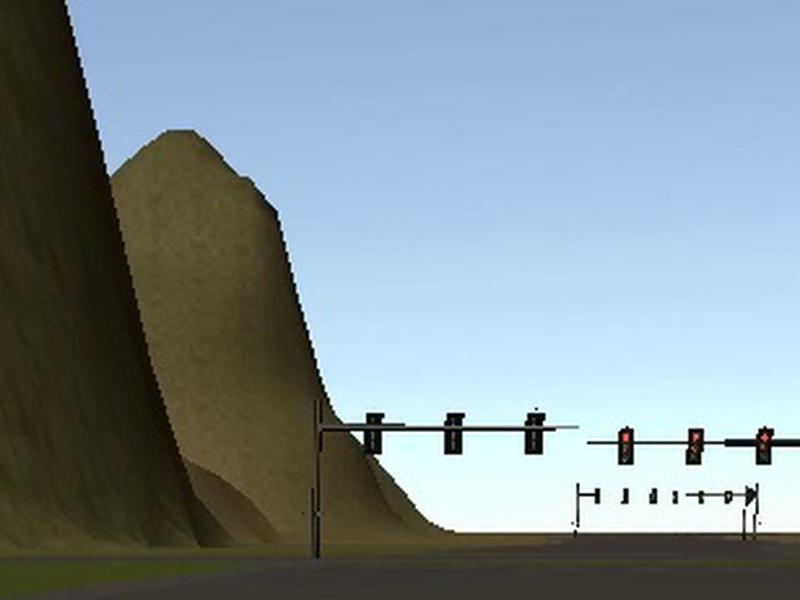Red: (685, 427, 704, 466), (755, 427, 773, 466), (617, 427, 633, 464)
